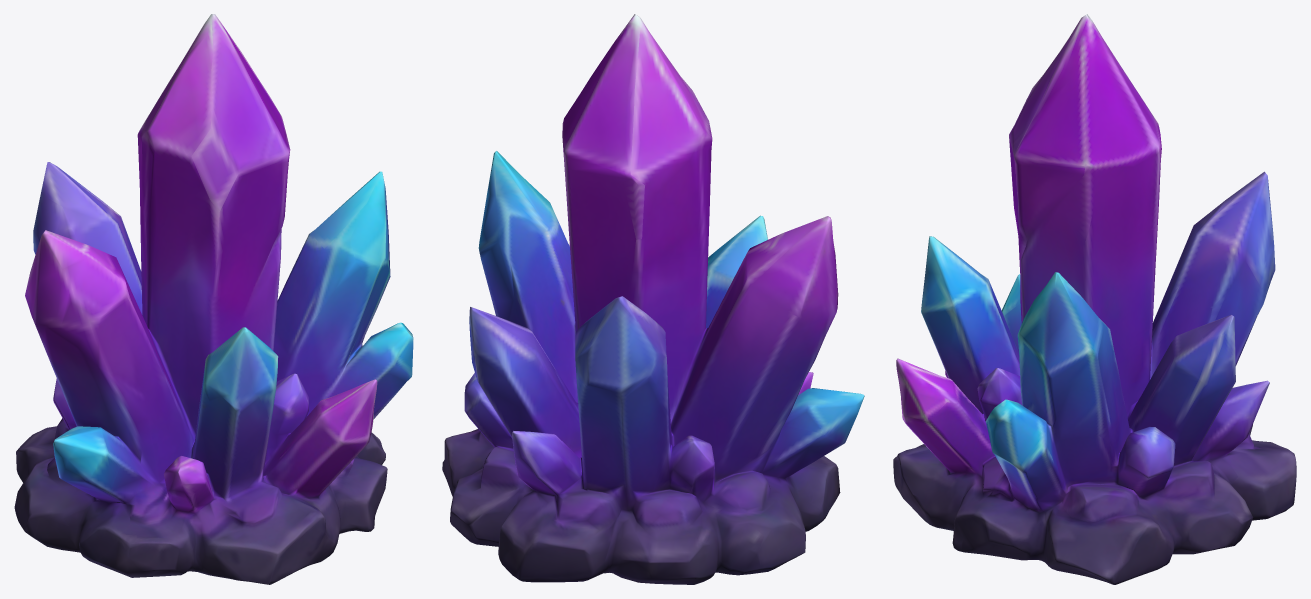
The model's file is Cristal.glb.
3 renders of one model, left to right at view 1: azimuth 30°, elevation 25°; view 2: azimuth 150°, elevation 25°; view 3: azimuth 270°, elevation 25°, orthographic.
Visible parts, largest first — view 1: Cristales; view 2: Cristales; view 3: Cristales.
Boxes of the visible parts, box(x1,y1,x2,y2) form: Cristales: box(14, 14, 413, 584); Cristales: box(442, 14, 864, 584); Cristales: box(893, 14, 1296, 584).
Bounding box in the file's own units: 0.2085 × 0.266 × 0.1969.
Materials: 1 (1 with a texture image).
